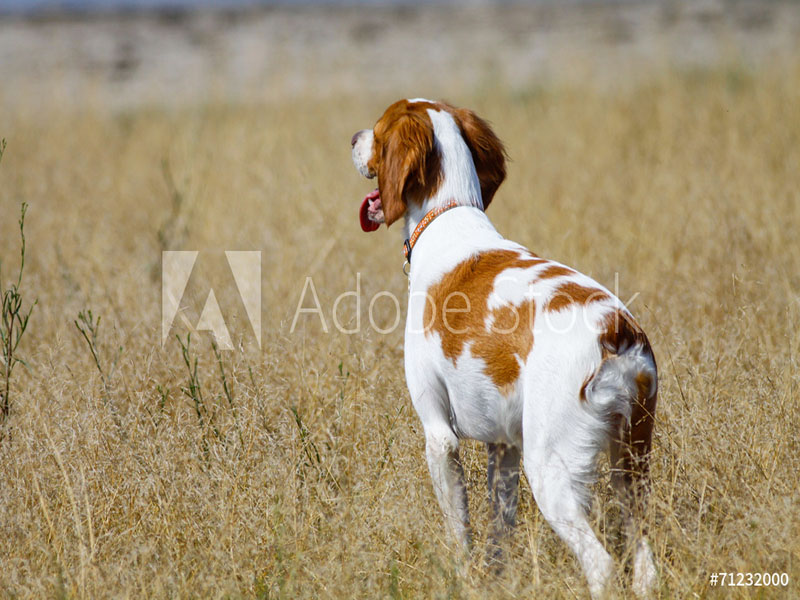cane da caccia: (350, 93, 666, 582)
